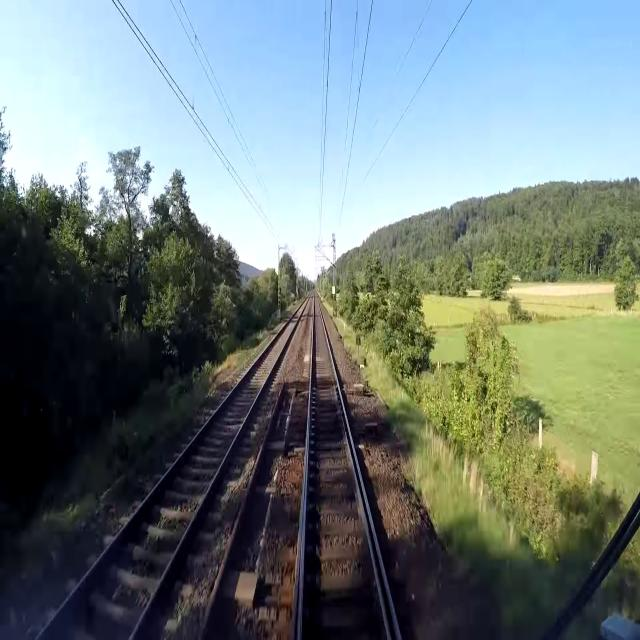rail-track: (38, 299, 307, 639), (302, 295, 387, 639), (366, 511, 397, 639)
